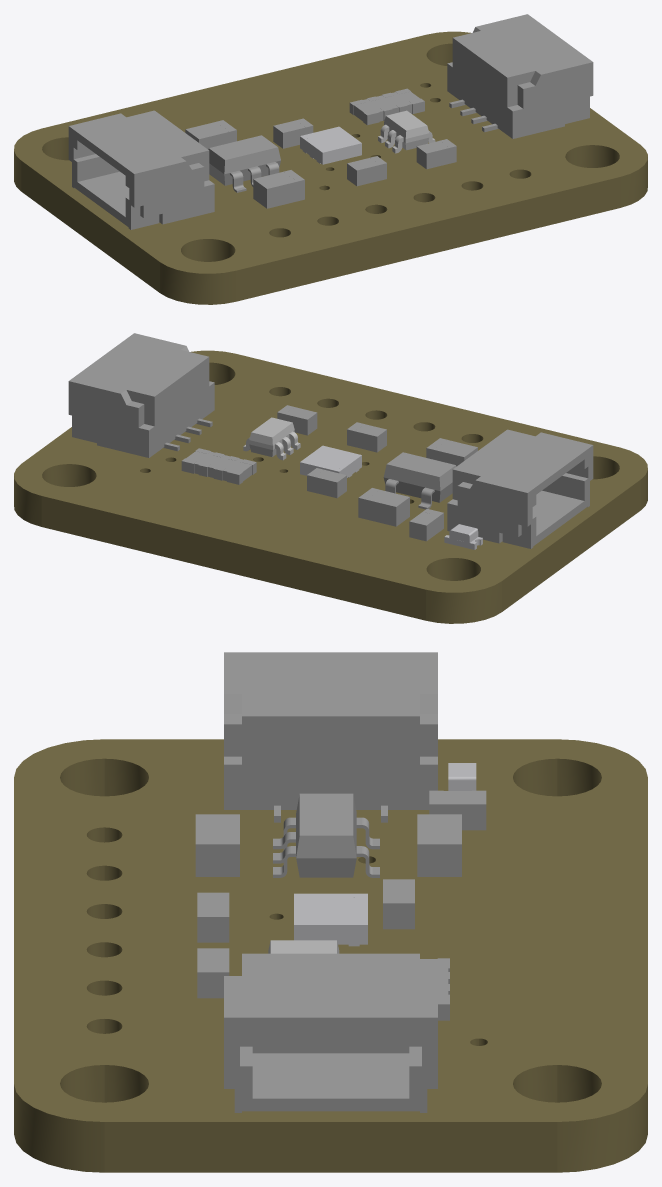
Rendered from ada-6498.glb.
3 renders of one model, top to bottom at view 1: azimuth 30°, elevation 25°; view 2: azimuth 150°, elevation 25°; view 3: azimuth 270°, elevation 25°, orthographic. The views are drawn at different scales.
Visible parts, largest first — view 1: 0.16666666666666666_0.16666666666666666_0.08333333333333333_, 0.3333333333333333_0.3333333333333333_0.3333333333333333_0, 0.5833333333333334_0.5833333333333334_0.5833333333333334_0.8, 0.5_0.5_0.5_0.85; view 2: 0.16666666666666666_0.16666666666666666_0.08333333333333333_, 0.3333333333333333_0.3333333333333333_0.3333333333333333_0, 0.5833333333333334_0.5833333333333334_0.5833333333333334_0.8, 0.5_0.5_0.5_0.85; view 3: 0.16666666666666666_0.16666666666666666_0.08333333333333333_, 0.3333333333333333_0.3333333333333333_0.3333333333333333_0, 0.5833333333333334_0.5833333333333334_0.5833333333333334_0.8, 0.5_0.5_0.5_0.85.
Part boxes in pixels (left/top/right/bottom): 0.16666666666666666_0.16666666666666666_0.08333333333333333_: left=14, top=31, right=647, bottom=304; 0.3333333333333333_0.3333333333333333_0.3333333333333333_0: left=68, top=14, right=593, bottom=229; 0.5833333333333334_0.5833333333333334_0.5833333333333334_0.8: left=300, top=126, right=361, bottom=164; 0.5_0.5_0.5_0.85: left=378, top=110, right=435, bottom=153; 0.16666666666666666_0.16666666666666666_0.08333333333333333_: left=14, top=350, right=647, bottom=623; 0.3333333333333333_0.3333333333333333_0.3333333333333333_0: left=68, top=333, right=593, bottom=548; 0.5833333333333334_0.5833333333333334_0.5833333333333334_0.8: left=300, top=445, right=482, bottom=549; 0.5_0.5_0.5_0.85: left=243, top=417, right=300, bottom=460; 0.16666666666666666_0.16666666666666666_0.08333333333333333_: left=14, top=739, right=647, bottom=1172; 0.3333333333333333_0.3333333333333333_0.3333333333333333_0: left=195, top=652, right=486, bottom=1112; 0.5833333333333334_0.5833333333333334_0.5833333333333334_0.8: left=294, top=763, right=476, bottom=946; 0.5_0.5_0.5_0.85: left=268, top=940, right=339, bottom=953.
Bounding box in the file's own units: 2.54 × 0.453 × 1.78.
